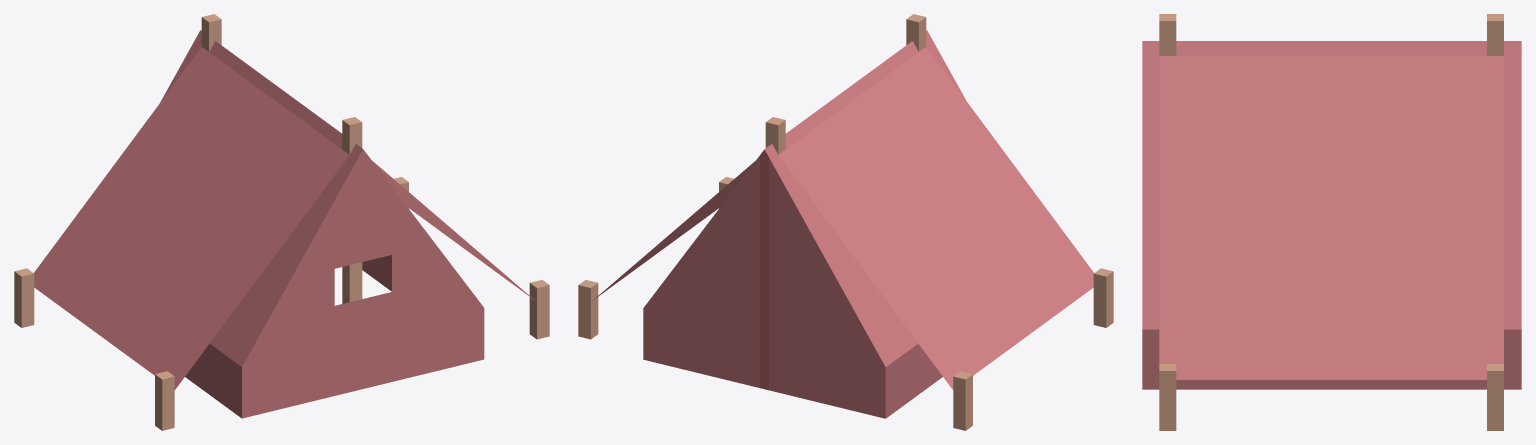
The model's file is tent_detailedClosed.glb.
The picture shows the model from 3 angles, left to right: view 1: azimuth 30°, elevation 25°; view 2: azimuth 150°, elevation 25°; view 3: azimuth 270°, elevation 25°; orthographic projection. The views are drawn at different scales.
Visible parts, largest first — view 1: tent_detailedClosed; view 2: tent_detailedClosed; view 3: tent_detailedClosed.
Boxes of the visible parts, left/top/right/bottom form: tent_detailedClosed: left=14, top=14, right=549, bottom=430; tent_detailedClosed: left=578, top=14, right=1113, bottom=430; tent_detailedClosed: left=1142, top=14, right=1521, bottom=430.
Size of the model in its own units: 0.8749 by 0.5611 by 0.6364.
